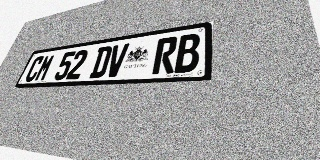2: (65, 49, 89, 80)
5: (53, 51, 76, 80)
B: (174, 33, 201, 73)
C: (23, 55, 45, 82)
D: (89, 45, 113, 78)
M: (33, 54, 56, 82)
R: (152, 36, 178, 74)
V: (104, 43, 130, 77)
